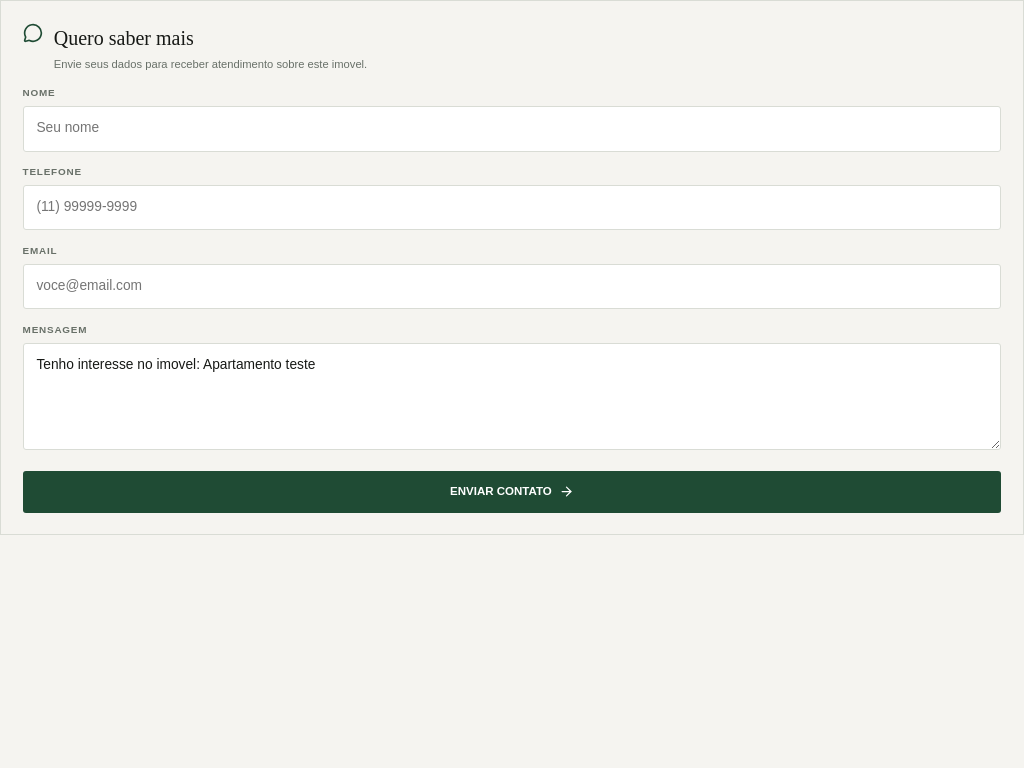
Test: LeadForm › mostra erro retornado pela API
Type "Maria Silva" into the field labelled "Nome".
click(512, 129); type("Maria Silva")  # box [23,106,1001,152]
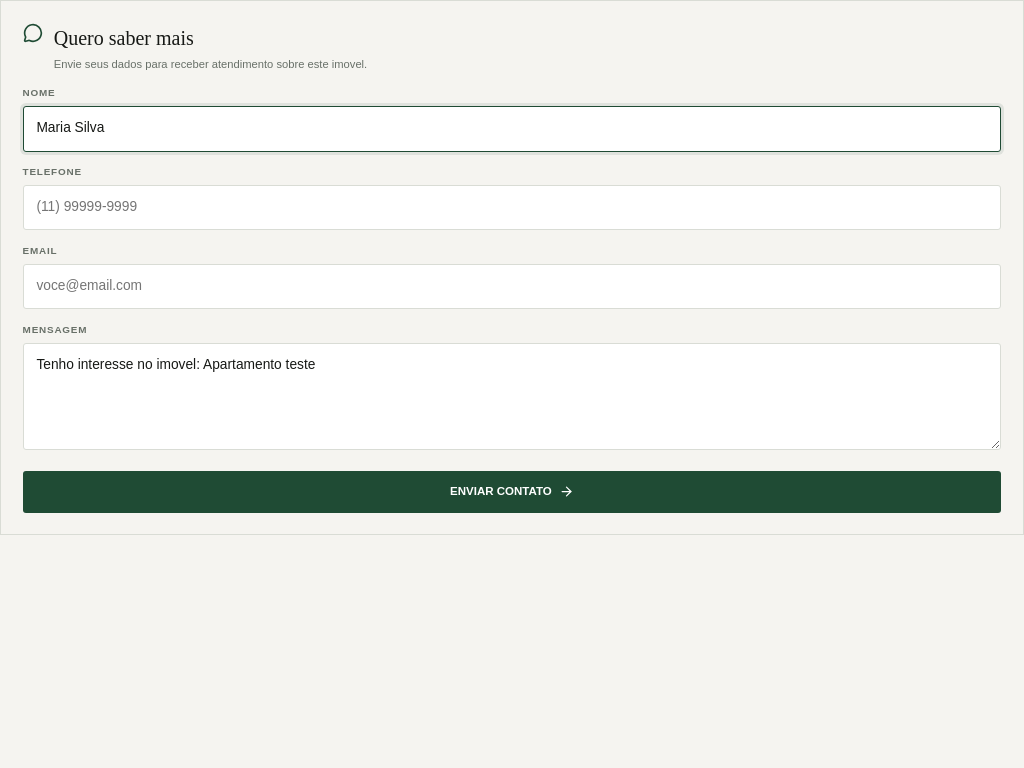
Type "11999999999" into the field labelled "Telefone".
click(512, 208); type("11999999999")  # box [23,185,1001,230]
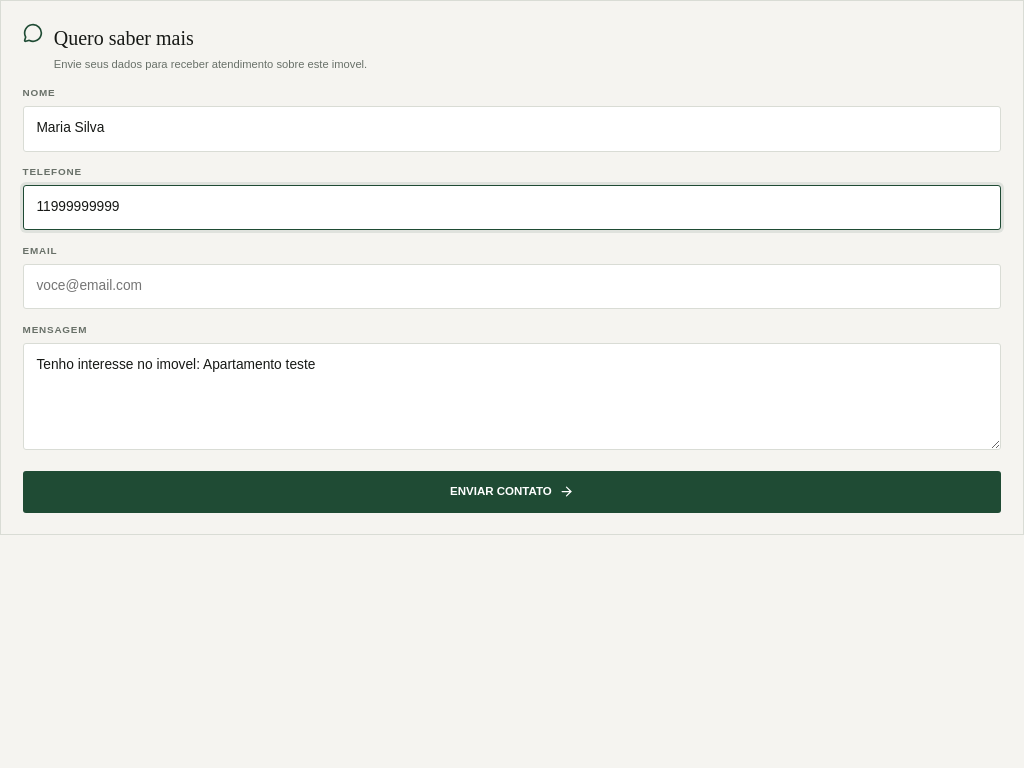
Click the button "Enviar contato".
click(512, 492)  # box [23,471,1001,513]
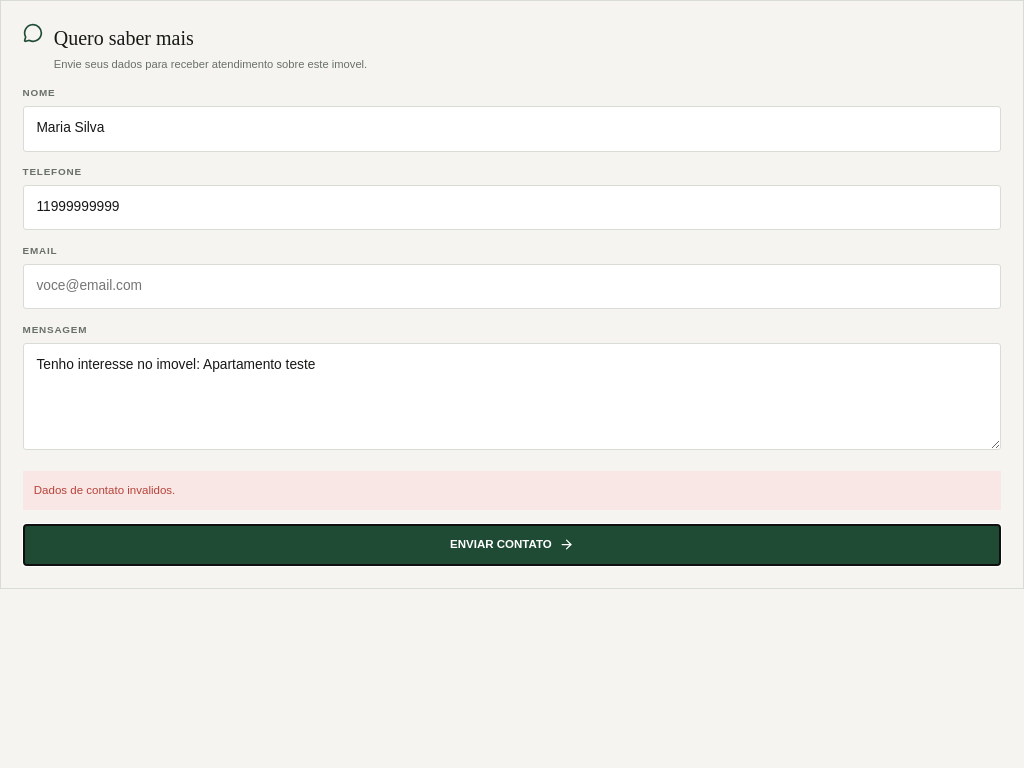
Expected: the text "Dados de contato invalidos." is shown, [23,471,1001,510]
